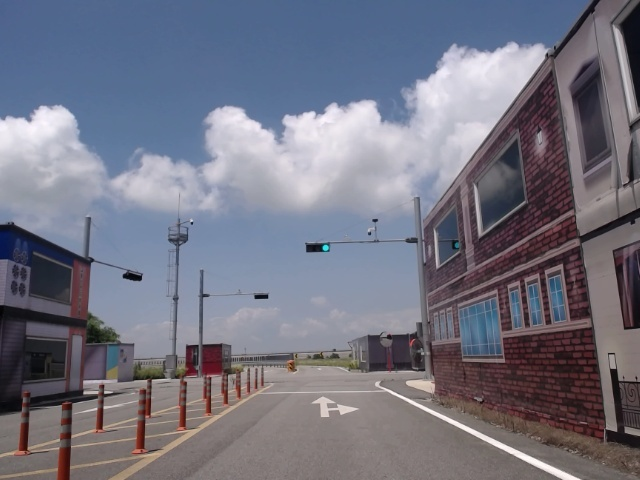green_3: (307, 244, 329, 252)
